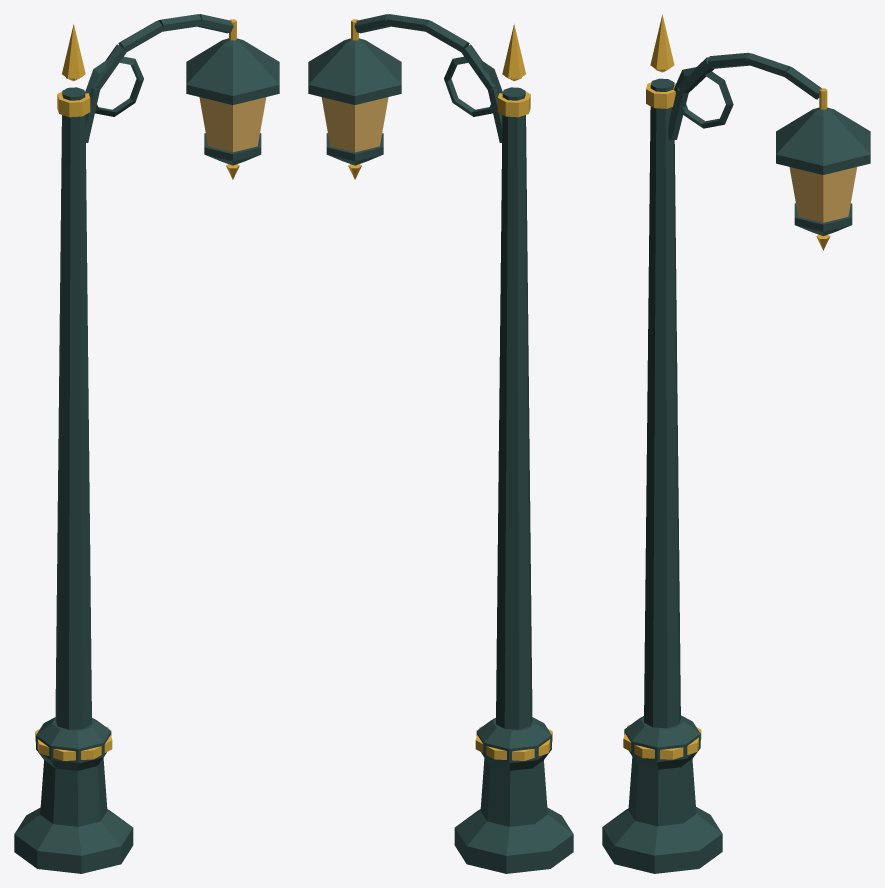
Rendered from sm_env_prop_street_lamp.glb.
3 views of the same model, side by side, from view 1: azimuth 30°, elevation 25°; view 2: azimuth 150°, elevation 25°; view 3: azimuth 330°, elevation 25° (orthographic).
Visible parts, largest first — view 1: Pole, LampBase, LanternRoof, LampGlass, ArmCurl, LanternBottom, BaseRing, Finial, Collar, Arm.002, Arm.001; view 2: Pole, LampBase, LanternRoof, LampGlass, ArmCurl, LanternBottom, BaseRing, Finial, Collar, Arm.002, Arm.001; view 3: Pole, LampBase, LanternRoof, LampGlass, ArmCurl, LanternBottom, BaseRing, Finial, Arm, Collar, Arm.002, Arm.003.
Part boxes in pixels (x1,y1,x2,y2): Pole: (55,87,91,729); LampBase: (14,717,133,873); LanternRoof: (186,38,279,104); LampGlass: (199,97,266,152); ArmCurl: (85,56,143,116); LanternBottom: (204,133,261,165); BaseRing: (35,726,112,760); Finial: (62,24,85,78); Collar: (57,91,90,117); Arm.002: (118,20,163,52); Arm.001: (92,44,126,90); Pole: (496,87,532,729); LampBase: (454,717,573,873); LanternRoof: (308,38,401,104); LampGlass: (321,97,388,152); ArmCurl: (444,56,502,116); LanternBottom: (326,133,383,165); BaseRing: (475,726,552,760); Finial: (502,24,525,78); Collar: (497,91,530,117); Arm.002: (424,20,469,52); Arm.001: (461,44,495,90); Pole: (644,78,680,728); LampBase: (602,715,722,873); LanternRoof: (776,107,870,174); LampGlass: (789,167,856,222); ArmCurl: (673,67,733,128); LanternBottom: (794,203,852,236); BaseRing: (623,724,701,759); Finial: (650,14,674,69); Arm: (668,87,688,140); Collar: (646,82,675,108); Arm.002: (707,52,749,68); Arm.003: (747,53,790,77).
Size of the model in its own units: 1.47 by 4.56 by 0.5543.
